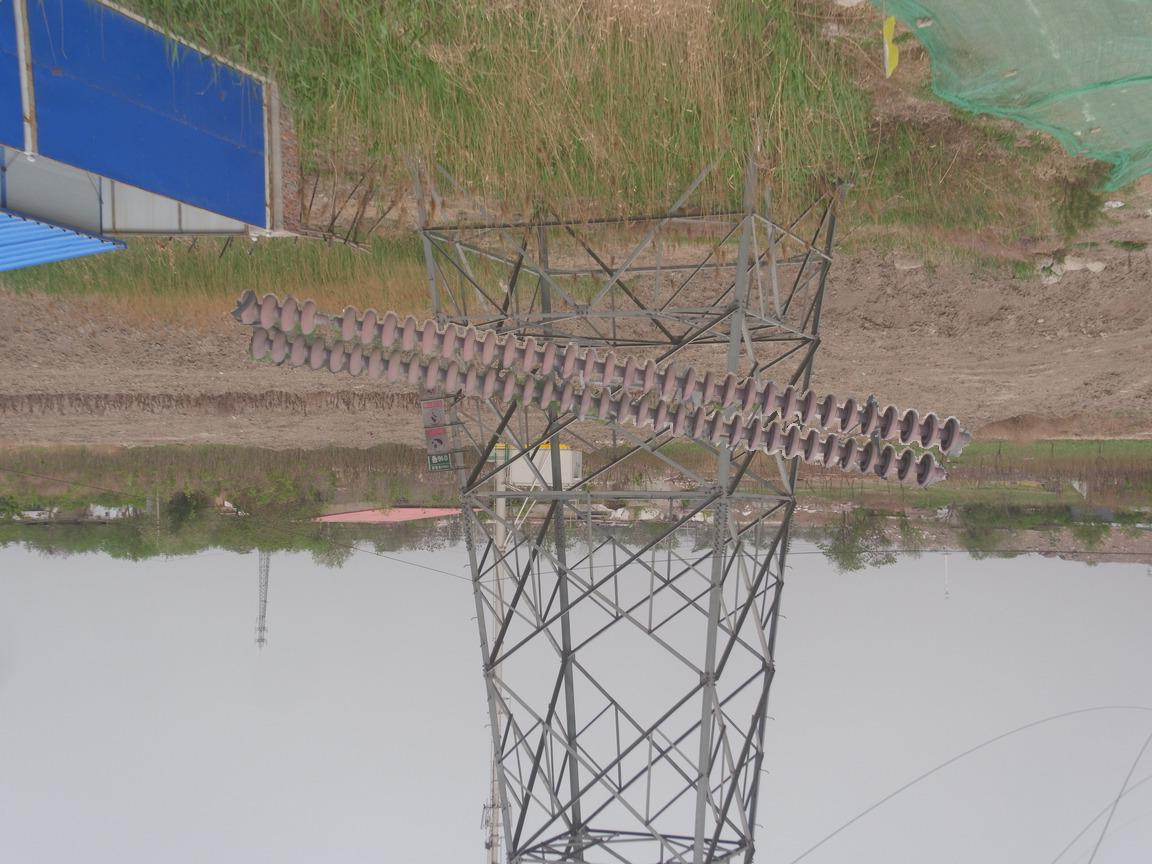insulator: (235, 286, 971, 491)
insulator_stringdrop: (295, 297, 361, 344)
